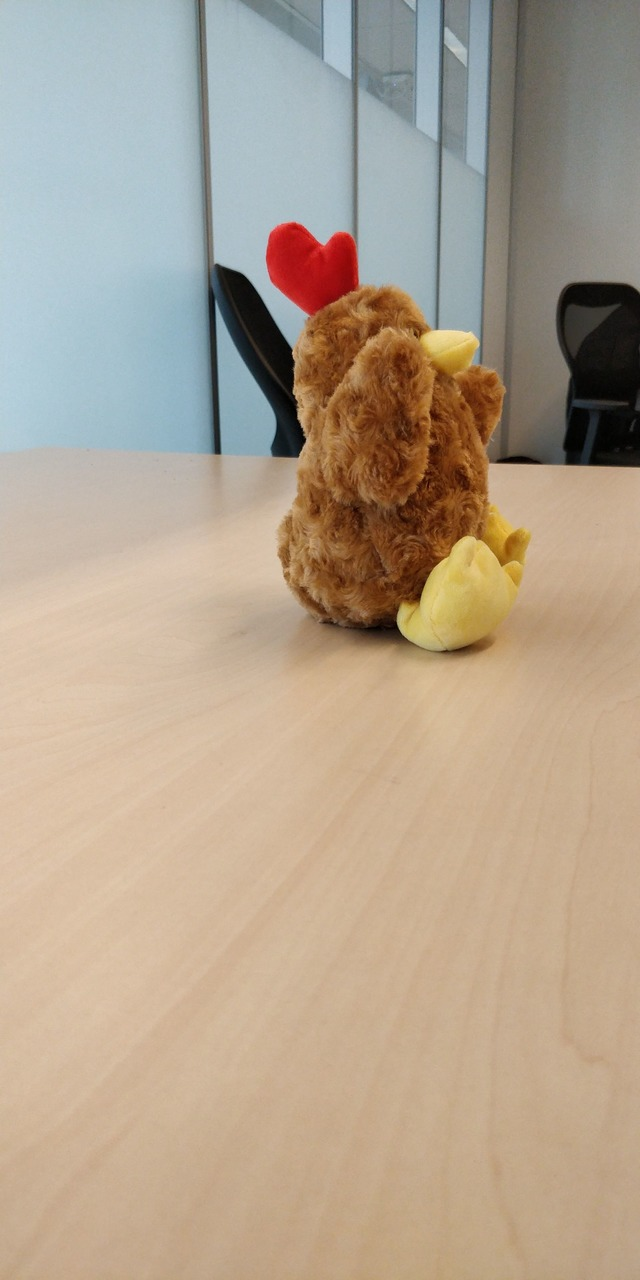fakeChicken: (265, 222, 534, 653)
